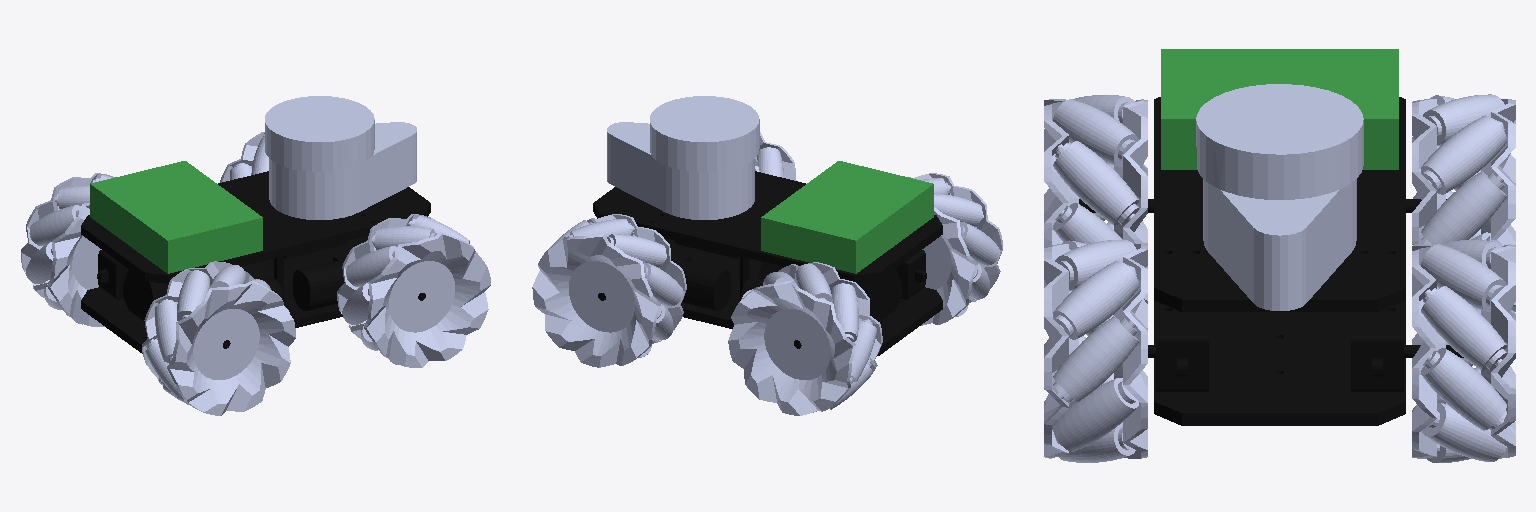
The robot description file, URDF, robot "ares_description":
<?xml version="1.0" encoding="utf-8"?>
<!-- This URDF was automatically created by SolidWorks to URDF Exporter! Originally created by [author] ([email redacted]) 
     Commit Version: 1.5.1-0-g916b5db  Build Version: 1.5.7152.31018
     For more information, please see http://wiki.ros.org/sw_urdf_exporter -->
<robot
  name="ares_description">
  <link
    name="base_link">
    <inertial>
      <origin
        xyz="-0.0077575 -0.00011309 0.021218"
        rpy="0 0 0" />
      <mass
        value="0.33417" />
      <inertia
        ixx="0.00012497"
        ixy="8.285E-20"
        ixz="9.2609E-22"
        iyy="0.00049563"
        iyz="-1.1379E-20"
        izz="0.00060045" />
    </inertial>
    <visual>
      <origin
        xyz="0 0 0"
        rpy="0 0 0" />
      <geometry>
        <mesh
          filename="package://ares_description/meshes/base_link.STL" />
      </geometry>
      <material
        name="">
        <color
          rgba="0.10196 0.10196 0.10196 1" />
      </material>
    </visual>
    <collision>
      <origin
        xyz="0 0 0"
        rpy="0 0 0" />
      <geometry>
        <mesh
          filename="package://ares_description/meshes/base_link.STL" />
      </geometry>
    </collision>
  </link>
  <link
    name="wheel_lf_link">
    <inertial>
      <origin
        xyz="-3.4398E-08 -0.0084293 1.0408E-17"
        rpy="0 0 0" />
      <mass
        value="0.073425" />
      <inertia
        ixx="1.2869E-05"
        ixy="3.7322E-21"
        ixz="-1.8502E-20"
        iyy="2.0516E-05"
        iyz="1.936E-12"
        izz="1.2869E-05" />
    </inertial>
    <visual>
      <origin
        xyz="0 0 0"
        rpy="0 0 0" />
      <geometry>
        <mesh
          filename="package://ares_description/meshes/wheel_lf_link.STL" />
      </geometry>
      <material
        name="">
        <color
          rgba="0.79216 0.81961 0.93333 1" />
      </material>
    </visual>
    <collision>
      <origin
        xyz="0 0 0"
        rpy="0 0 0" />
      <geometry>
        <mesh
          filename="package://ares_description/meshes/wheel_lf_link.STL" />
      </geometry>
    </collision>
  </link>
  <joint
    name="wheel_lf_joint"
    type="continuous">
    <origin
      xyz="0.061557 0.0744 0.01625"
      rpy="0 0 0" />
    <parent
      link="base_link" />
    <child
      link="wheel_lf_link" />
    <axis
      xyz="0 1 0" />
  </joint>
  <link
    name="wheel_lb_link">
    <inertial>
      <origin
        xyz="3.4434E-05 -0.0084764 -1.9999E-05"
        rpy="0 0 0" />
      <mass
        value="0.073424" />
      <inertia
        ixx="1.2869E-05"
        ixy="-4.166E-11"
        ixz="-9.5074E-11"
        iyy="2.0516E-05"
        iyz="3.4508E-11"
        izz="1.2869E-05" />
    </inertial>
    <visual>
      <origin
        xyz="0 0 0"
        rpy="0 0 0" />
      <geometry>
        <mesh
          filename="package://ares_description/meshes/wheel_lb_link.STL" />
      </geometry>
      <material
        name="">
        <color
          rgba="0.79216 0.81961 0.93333 1" />
      </material>
    </visual>
    <collision>
      <origin
        xyz="0 0 0"
        rpy="0 0 0" />
      <geometry>
        <mesh
          filename="package://ares_description/meshes/wheel_lb_link.STL" />
      </geometry>
    </collision>
  </link>
  <joint
    name="wheel_lb_joint"
    type="continuous">
    <origin
      xyz="-0.061486 0.0744 0.01625"
      rpy="0 0 0" />
    <parent
      link="base_link" />
    <child
      link="wheel_lb_link" />
    <axis
      xyz="0 1 0" />
  </joint>
  <link
    name="wheel_rf_link">
    <inertial>
      <origin
        xyz="-0.0090763 0.017871 -0.0022561"
        rpy="0 0 0" />
      <mass
        value="0.079025" />
      <inertia
        ixx="1.3208E-05"
        ixy="-1.7537E-07"
        ixz="3.0339E-08"
        iyy="2.085E-05"
        iyz="3.0959E-08"
        izz="1.3376E-05" />
    </inertial>
    <visual>
      <origin
        xyz="0 0 0"
        rpy="0 0 0" />
      <geometry>
        <mesh
          filename="package://ares_description/meshes/wheel_rf_link.STL" />
      </geometry>
      <material
        name="">
        <color
          rgba="0.79216 0.81961 0.93333 1" />
      </material>
    </visual>
    <collision>
      <origin
        xyz="0 0 0"
        rpy="0 0 0" />
      <geometry>
        <mesh
          filename="package://ares_description/meshes/wheel_rf_link.STL" />
      </geometry>
    </collision>
  </link>
  <joint
    name="wheel_rf_joint"
    type="continuous">
    <origin
      xyz="0.061557 -0.0744 0.01625"
      rpy="0 0 0" />
    <parent
      link="base_link" />
    <child
      link="wheel_rf_link" />
    <axis
      xyz="0 1 0" />
  </joint>
  <link
    name="wheel_rb_link">
    <inertial>
      <origin
        xyz="-3.4398E-08 0.0085707 6.9389E-18"
        rpy="0 0 0" />
      <mass
        value="0.073425" />
      <inertia
        ixx="1.2869E-05"
        ixy="-5.2942E-22"
        ixz="3.254E-20"
        iyy="2.0516E-05"
        iyz="1.936E-12"
        izz="1.2869E-05" />
    </inertial>
    <visual>
      <origin
        xyz="0 0 0"
        rpy="0 0 0" />
      <geometry>
        <mesh
          filename="package://ares_description/meshes/wheel_rb_link.STL" />
      </geometry>
      <material
        name="">
        <color
          rgba="0.79216 0.81961 0.93333 1" />
      </material>
    </visual>
    <collision>
      <origin
        xyz="0 0 0"
        rpy="0 0 0" />
      <geometry>
        <mesh
          filename="package://ares_description/meshes/wheel_rb_link.STL" />
      </geometry>
    </collision>
  </link>
  <joint
    name="wheel_rb_joint"
    type="continuous">
    <origin
      xyz="-0.061486 -0.0744 0.01625"
      rpy="0 0 0" />
    <parent
      link="base_link" />
    <child
      link="wheel_rb_link" />
    <axis
      xyz="0 1 0" />
  </joint>
  <link
    name="controller_link">
    <inertial>
      <origin
        xyz="-0.03 0.0425 0.0099913"
        rpy="0 0 0" />
      <mass
        value="0.10207" />
      <inertia
        ixx="6.4887E-05"
        ixy="9.3927E-21"
        ixz="-1.7097E-22"
        iyy="3.4011E-05"
        iyz="6.4964E-22"
        izz="9.2076E-05" />
    </inertial>
    <visual>
      <origin
        xyz="0 0 0"
        rpy="0 0 0" />
      <geometry>
        <mesh
          filename="package://ares_description/meshes/controller_link.STL" />
      </geometry>
      <material
        name="">
        <color
          rgba="0.28627 0.66275 0.32941 1" />
      </material>
    </visual>
    <collision>
      <origin
        xyz="0 0 0"
        rpy="0 0 0" />
      <geometry>
        <mesh
          filename="package://ares_description/meshes/controller_link.STL" />
      </geometry>
    </collision>
  </link>
  <joint
    name="controller_joint"
    type="fixed">
    <origin
      xyz="-0.019964 -0.0425 0.05"
      rpy="0 0 0" />
    <parent
      link="base_link" />
    <child
      link="controller_link" />
    <axis
      xyz="0 0 0" />
  </joint>
  <link
    name="laser_link">
    <inertial>
      <origin
        xyz="0.0073485 -8.0231E-18 -0.0159"
        rpy="0 0 0" />
      <mass
        value="0.1509" />
      <inertia
        ixx="5.6077E-05"
        ixy="2.8165E-20"
        ixz="8.9824E-06"
        iyy="9.0691E-05"
        iyz="-7.5496E-21"
        izz="9.0202E-05" />
    </inertial>
    <visual>
      <origin
        xyz="0 0 0"
        rpy="0 0 0" />
      <geometry>
        <mesh
          filename="package://ares_description/meshes/laser_link.STL" />
      </geometry>
      <material
        name="">
        <color
          rgba="0.79216 0.81961 0.93333 1" />
      </material>
    </visual>
    <collision>
      <origin
        xyz="0 0 0"
        rpy="0 0 0" />
      <geometry>
        <mesh
          filename="package://ares_description/meshes/laser_link.STL" />
      </geometry>
    </collision>
  </link>
  <joint
    name="laser_joint"
    type="fixed">
    <origin
      xyz="0.040036 0 0.089"
      rpy="0 0 0" />
    <parent
      link="base_link" />
    <child
      link="laser_link" />
    <axis
      xyz="0 0 0" />
  </joint>
</robot>

--- What the picture shows (computed from the rendered views, not written in the file) ---
The picture shows the robot from 3 angles, left to right: view 1: azimuth 30°, elevation 25°; view 2: azimuth 150°, elevation 25°; view 3: azimuth 270°, elevation 25°; orthographic projection.
Robot: ares_description — 7 links, 6 joints (4 continuous, 2 fixed); root link base_link; default pose: all joints at 0.
Links seen in each view (by area): view 1: base_link, wheel_rb_link, wheel_rf_link, laser_link, controller_link, wheel_lb_link, wheel_lf_link; view 2: base_link, wheel_lf_link, wheel_lb_link, laser_link, controller_link, wheel_rb_link, wheel_rf_link; view 3: base_link, laser_link, wheel_rf_link, wheel_lf_link, controller_link, wheel_lb_link, wheel_rb_link.
Boxes of the visible links, x1,y1,x2,y2 form: base_link: (81,171,430,353); wheel_rb_link: (142,261,295,415); wheel_rf_link: (337,214,490,367); laser_link: (265,96,416,219); controller_link: (90,161,262,273); wheel_lb_link: (21,173,114,326); wheel_lf_link: (220,132,268,182); base_link: (593,171,942,355); wheel_lf_link: (532,214,686,367); wheel_lb_link: (728,262,882,415); laser_link: (607,96,759,219); controller_link: (761,161,933,273); wheel_rb_link: (909,173,1002,325); wheel_rf_link: (755,132,798,181); base_link: (1079,97,1463,425); laser_link: (1196,84,1363,310); wheel_rf_link: (1044,240,1147,462); wheel_lf_link: (1412,240,1515,462); controller_link: (1161,49,1398,169); wheel_lb_link: (1412,94,1515,311); wheel_rb_link: (1044,95,1147,303).
Size in the robot's own frame: 0.2032 by 0.1688 by 0.1218 metres.
7 mesh visuals loaded from 7 distinct referenced files (7 binary STL).
